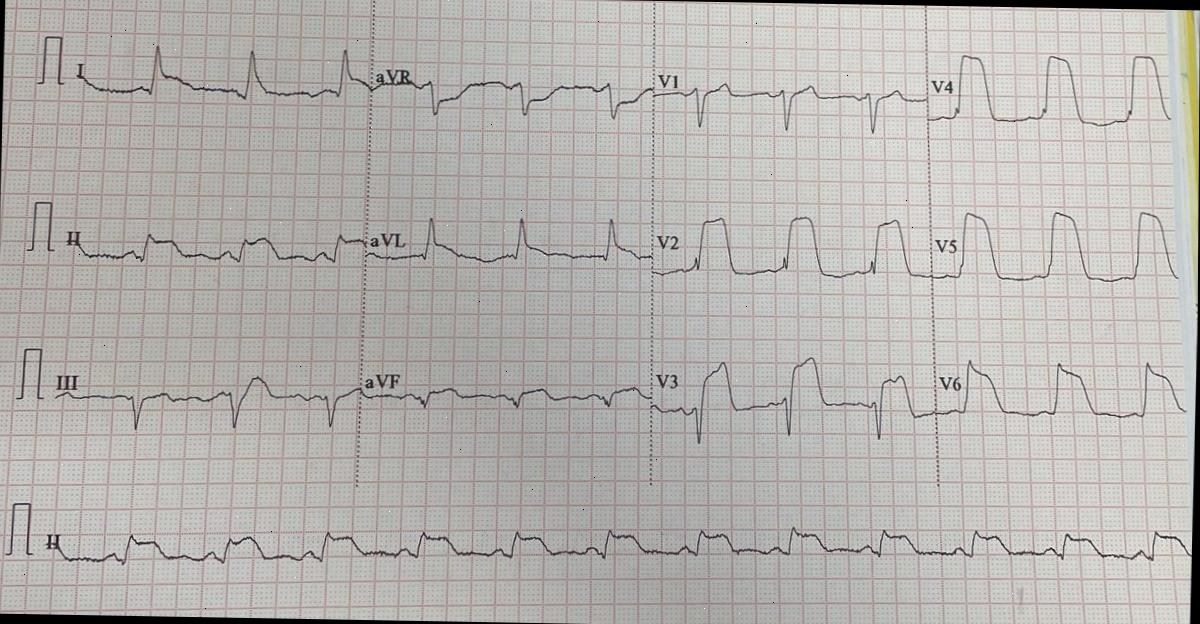Lead_I: (69, 26, 374, 139)
Lead_II: (62, 197, 372, 285)
Lead_III: (46, 357, 361, 446)
Lead_II_ext: (37, 494, 1194, 596)
Lead_V1: (656, 54, 929, 153)
Lead_V2: (652, 199, 935, 300)
Lead_V3: (649, 343, 938, 468)
Lead_V4: (924, 36, 1178, 150)
Lead_V5: (929, 195, 1192, 300)
Lead_V6: (935, 343, 1191, 436)
Lead_aVF: (357, 356, 653, 426)
Lead_aVL: (367, 198, 657, 296)
Lead_aVR: (374, 46, 659, 134)
